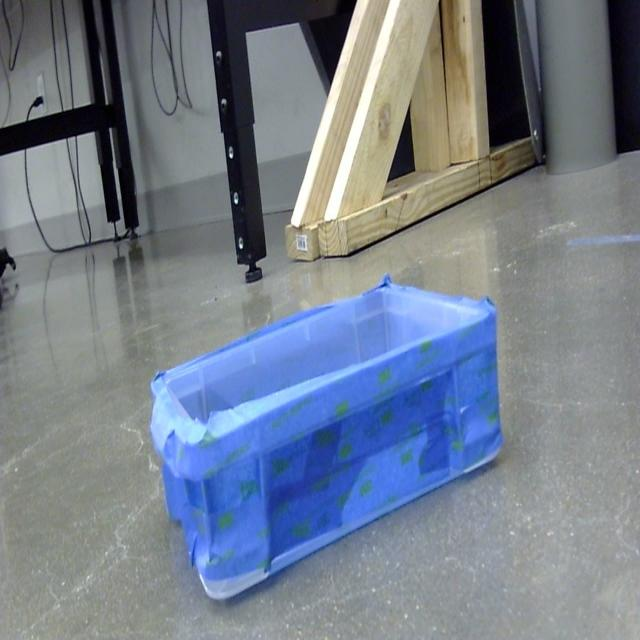bucket: (150, 279, 504, 604)
